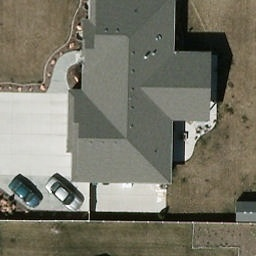car: (46, 176, 85, 215), (9, 178, 43, 208)
